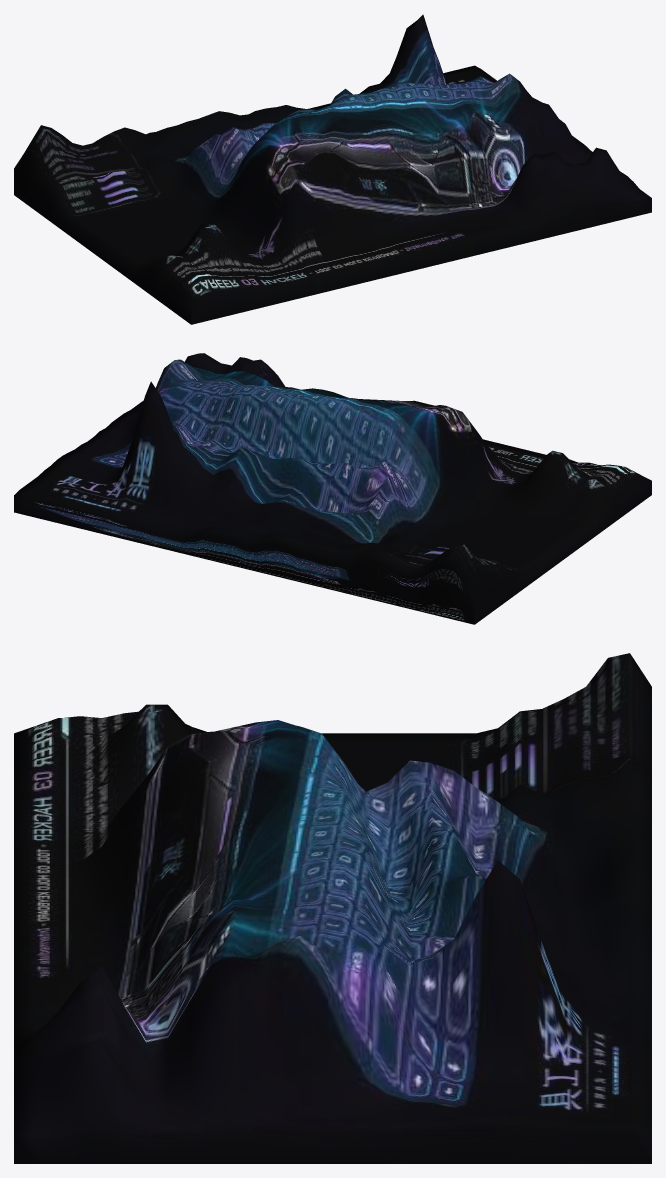
File: CAREER_03_Tool_03_Holo_Keyboard.glb
3 views of the same model, one above another, from view 1: azimuth 30°, elevation 25°; view 2: azimuth 150°, elevation 25°; view 3: azimuth 270°, elevation 25° (orthographic). The views are drawn at different scales.
Parts seen in each view (by area): view 1: CAREER_03_Tool_03_Holo_Keyboard; view 2: CAREER_03_Tool_03_Holo_Keyboard; view 3: CAREER_03_Tool_03_Holo_Keyboard.
Boxes of the visible parts, x1,y1,x2,y2 form: CAREER_03_Tool_03_Holo_Keyboard: (14,14,651,324); CAREER_03_Tool_03_Holo_Keyboard: (14,353,651,624); CAREER_03_Tool_03_Holo_Keyboard: (14,653,651,1163).
Bounding box in the file's own units: 2 × 0.51 × 1.33.
Materials: 1 (1 with a texture image).
